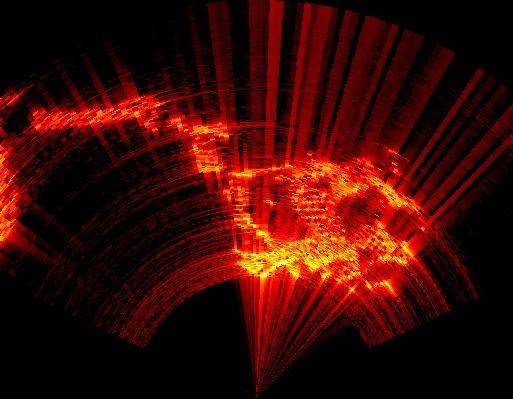shipwreck: (171, 119, 416, 294), (95, 102, 161, 130)
